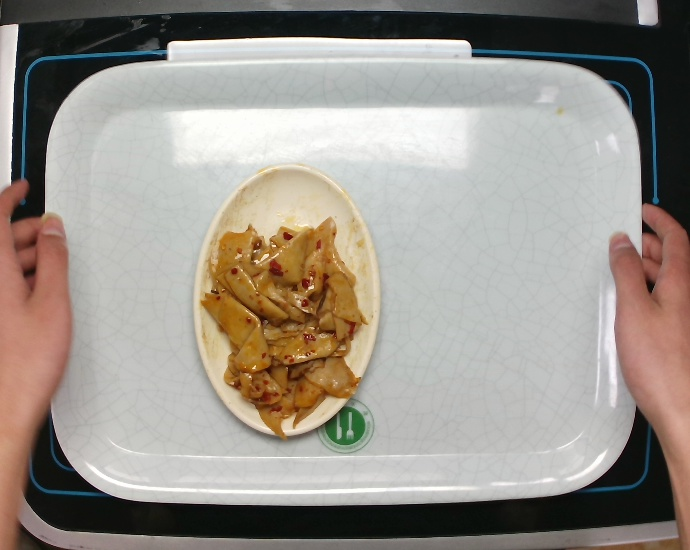JYsf-Tuo_Yuan_Wan: (187, 162, 383, 441)
